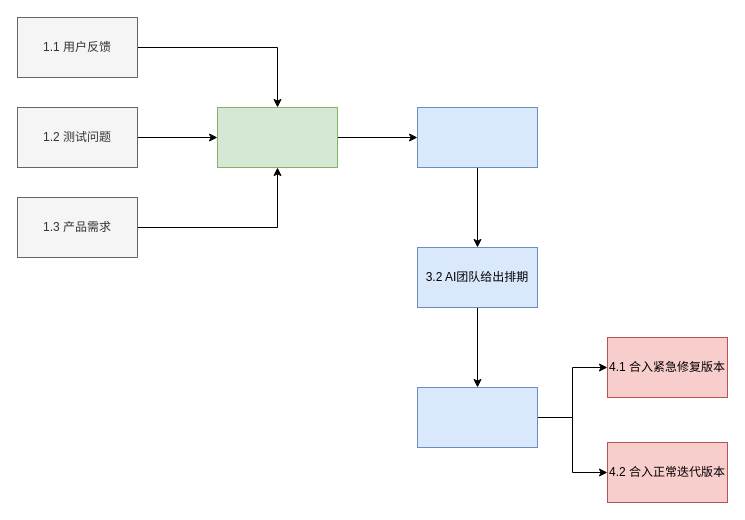
The diagram is 745 pixels wide and 520 high, and some of its shapes have lost their labels. The centre of each missing label's shape, as x and y in pixels:
"2.1 整理成Case或需求Feature" belongs at pixel 277 137.
"3.1 与AI团队沟通" belongs at pixel 477 137.
"3.3 AI完成开发" belongs at pixel 477 417.
